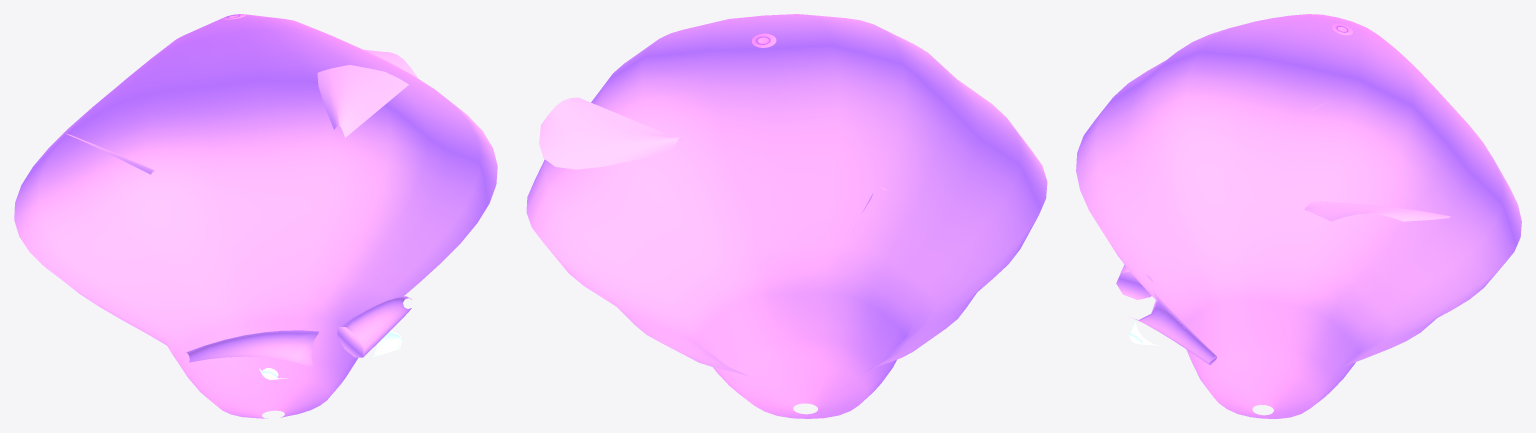
Rendered from kraken_head.glb.
3 renders of one model, left to right at view 1: azimuth 30°, elevation 25°; view 2: azimuth 150°, elevation 25°; view 3: azimuth 270°, elevation 25°, orthographic. The views are drawn at different scales.
Visible parts, largest first — view 1: kraken_head; view 2: kraken_head; view 3: kraken_head.
Part boxes in pixels (bbox=[...]): kraken_head: bbox=[14, 14, 497, 418]; kraken_head: bbox=[526, 14, 1047, 418]; kraken_head: bbox=[1076, 14, 1521, 418].
Bounding box in the file's own units: 2.07 × 1.86 × 1.97.
